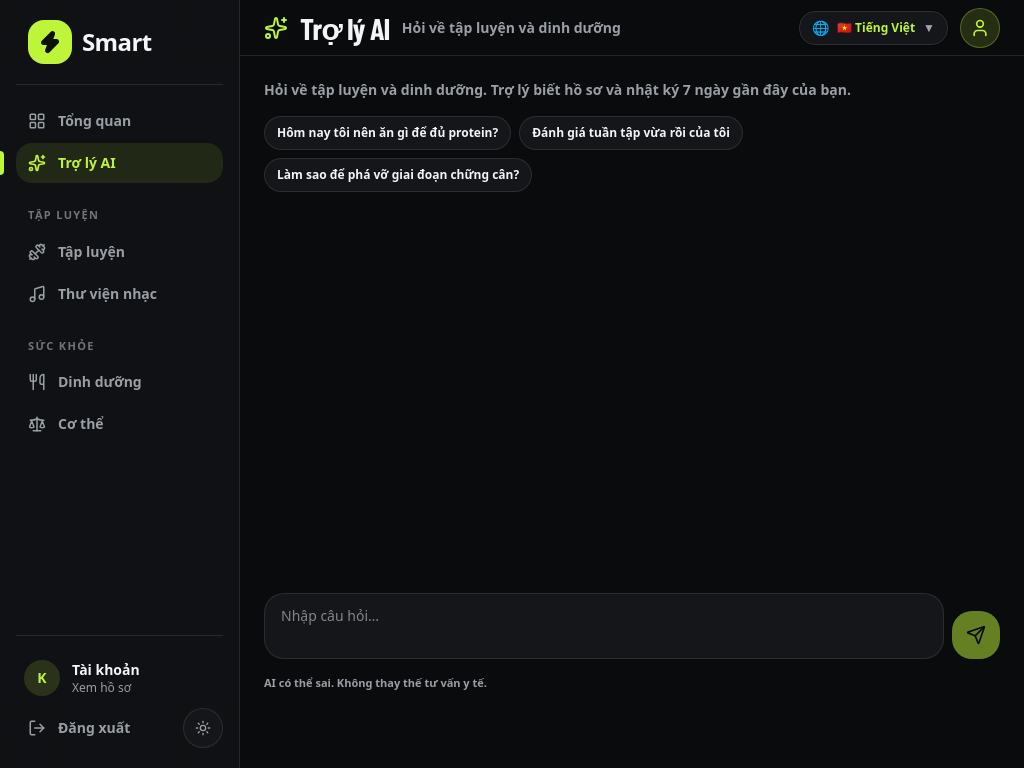
Test case: Coach page › sends the conversation and shows the reply
Step 1. Type "hi" into the text box named "Tin nhắn" → (604, 626), box [264, 593, 944, 659]
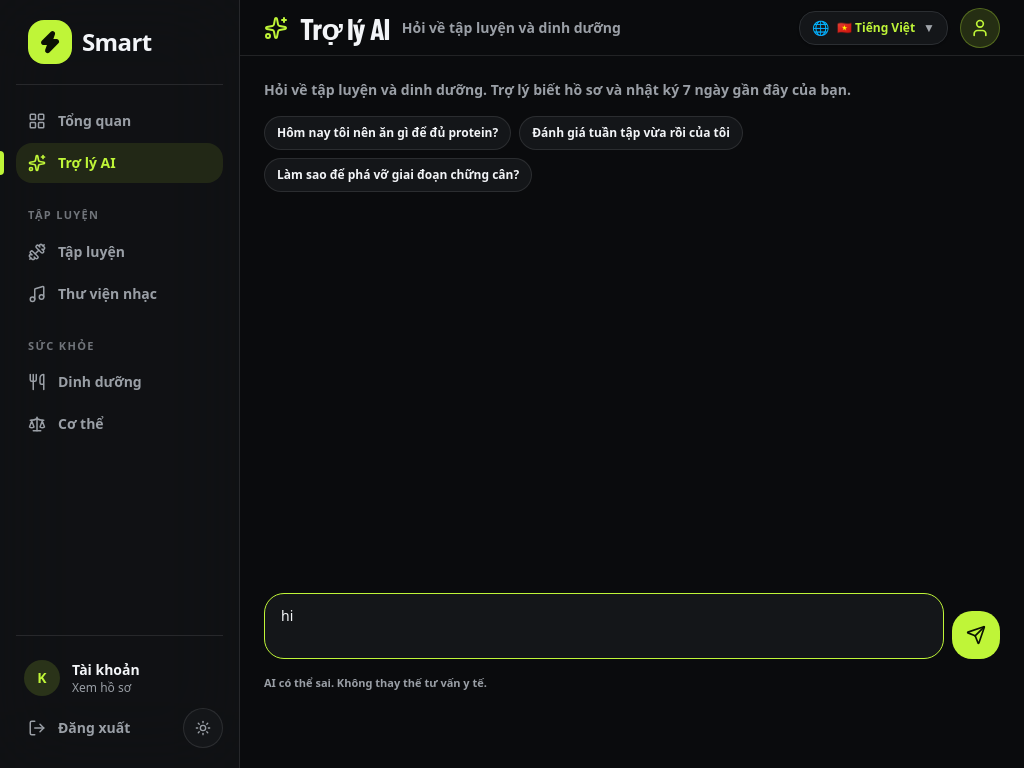
Step 2. Click the button named "Gửi" → (976, 635), box [952, 611, 1000, 659]
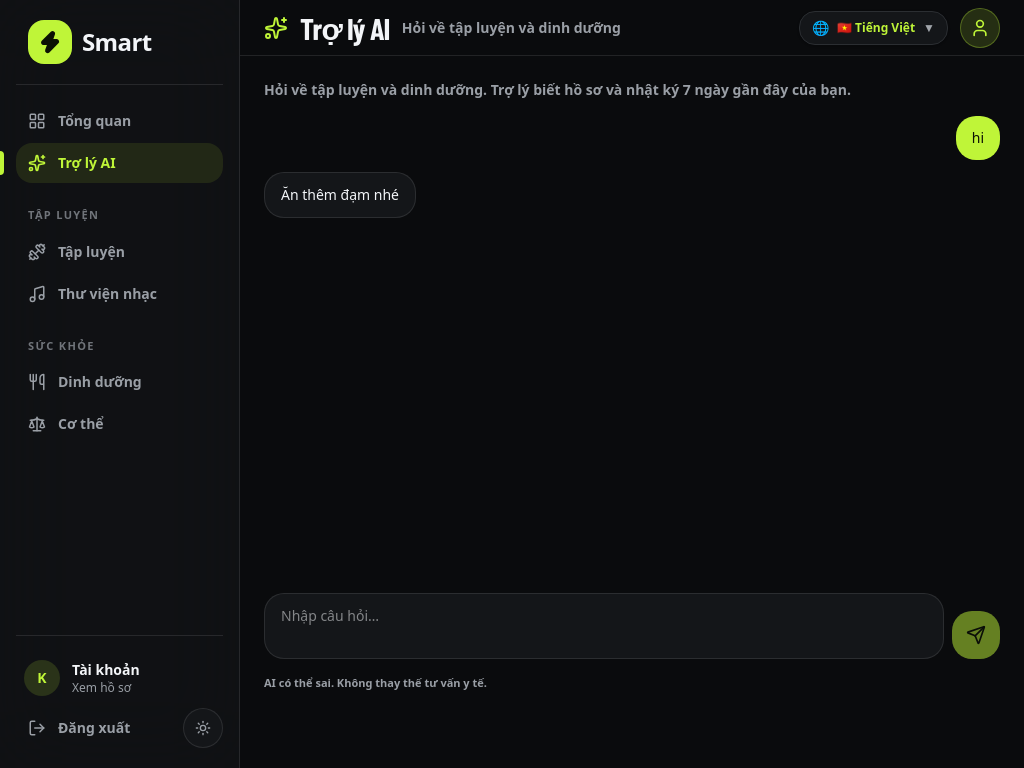
Check: the text "Ăn thêm đạm nhé" is shown, box [264, 172, 416, 218]
Check: the text "hi" is shown, box [956, 116, 1000, 160]
